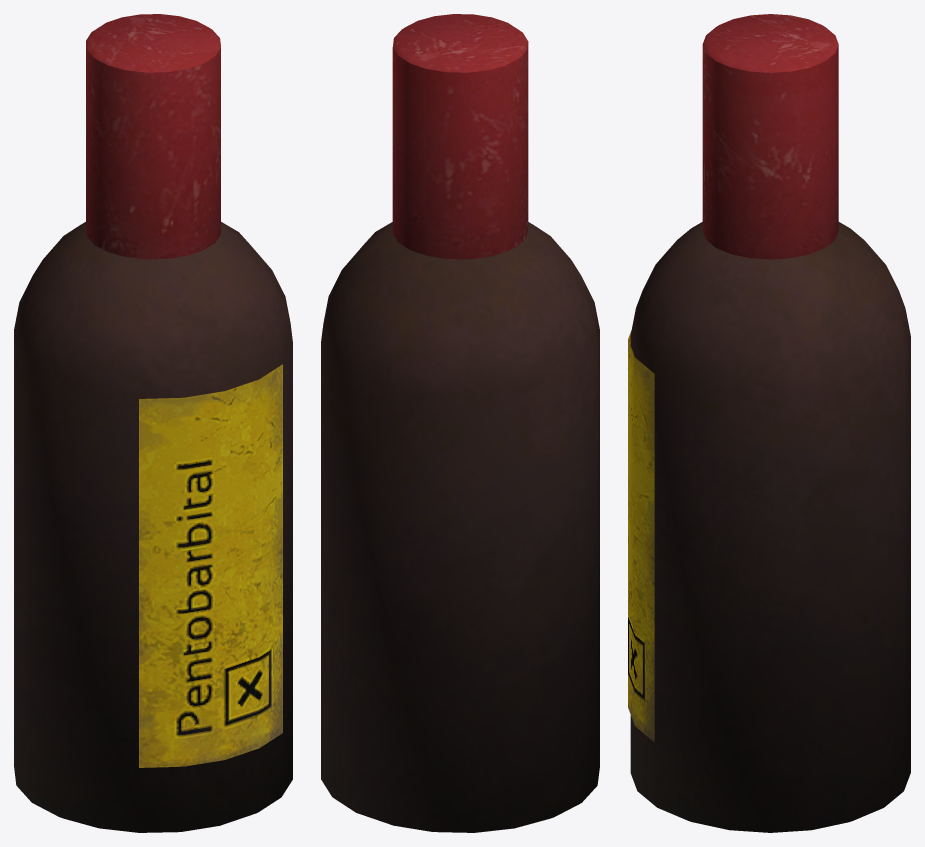
Rendered from medicine_bottle_pento.DAE.
The picture shows the model from 3 angles, left to right: view 1: azimuth 30°, elevation 25°; view 2: azimuth 150°, elevation 25°; view 3: azimuth 270°, elevation 25°; orthographic projection.
Visible parts, largest first — view 1: bottle, bottle_cap_and_Label; view 2: bottle, bottle_cap_and_Label; view 3: bottle, bottle_cap_and_Label.
Part boxes in pixels (<box>): bottle: <box>14,222,292,832</box>; bottle_cap_and_Label: <box>86,14,282,767</box>; bottle: <box>321,222,599,832</box>; bottle_cap_and_Label: <box>392,14,528,259</box>; bottle: <box>630,222,910,832</box>; bottle_cap_and_Label: <box>628,14,838,741</box>.
Bounding box in the file's own units: 0.1018 × 0.2949 × 0.1027.
